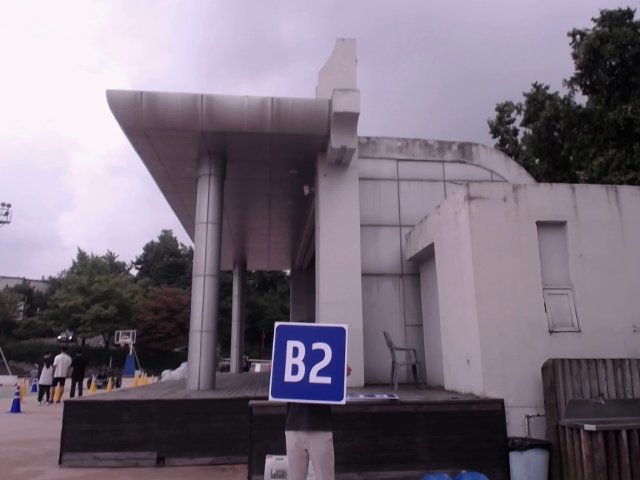delivery_b2: (270, 322, 347, 406)
